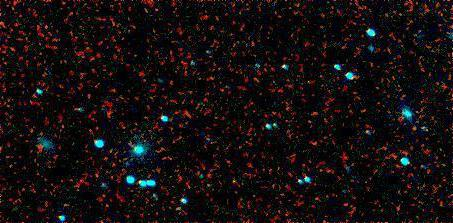star: (397, 109, 427, 139)
